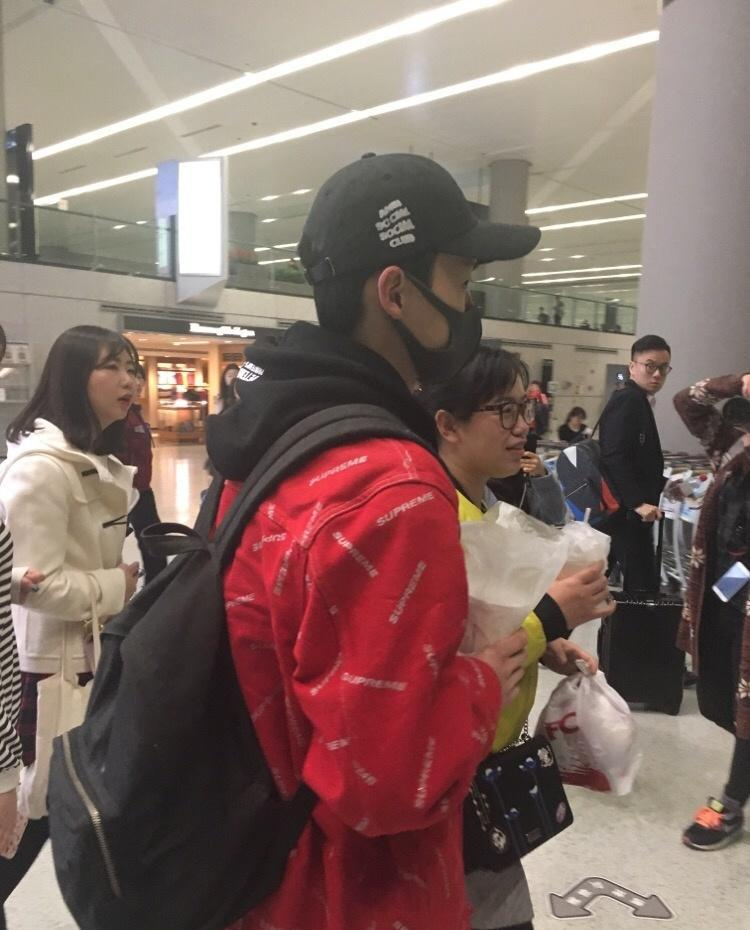NONE: (459, 385, 535, 479), (83, 352, 148, 420), (635, 357, 672, 390)
OK: (347, 248, 482, 383)
